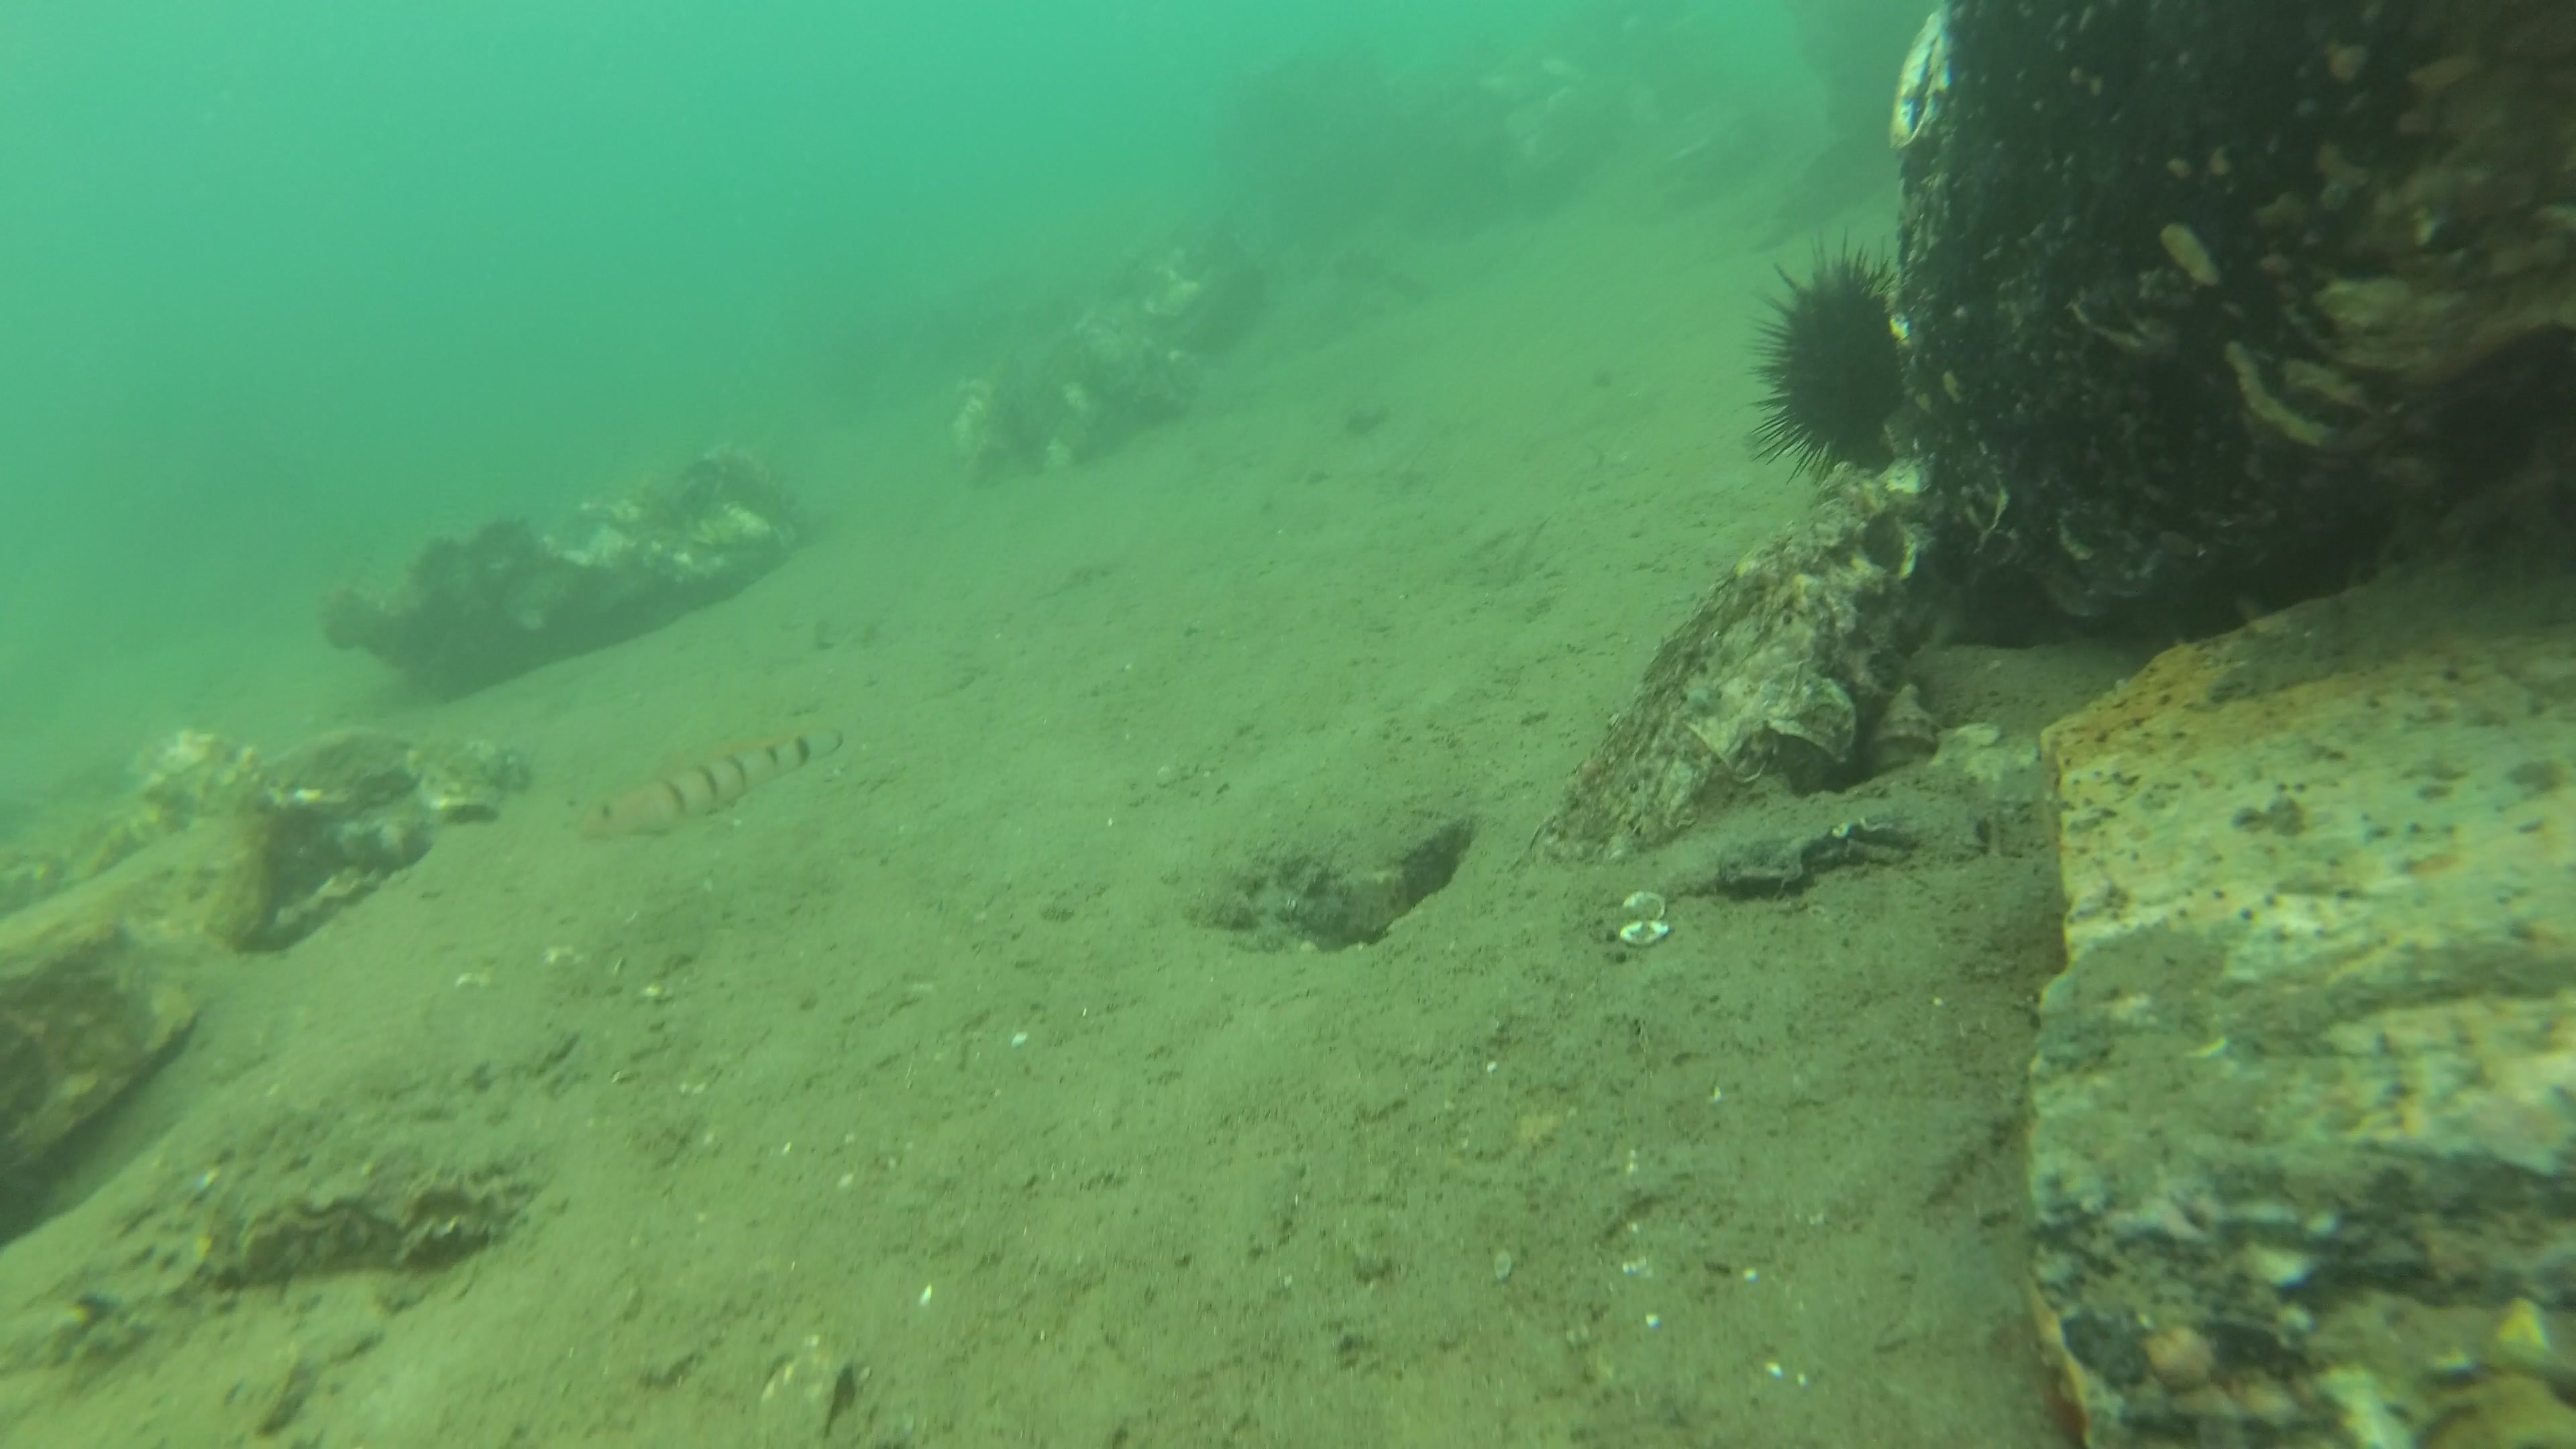echinus: (1743, 223, 1904, 494)
